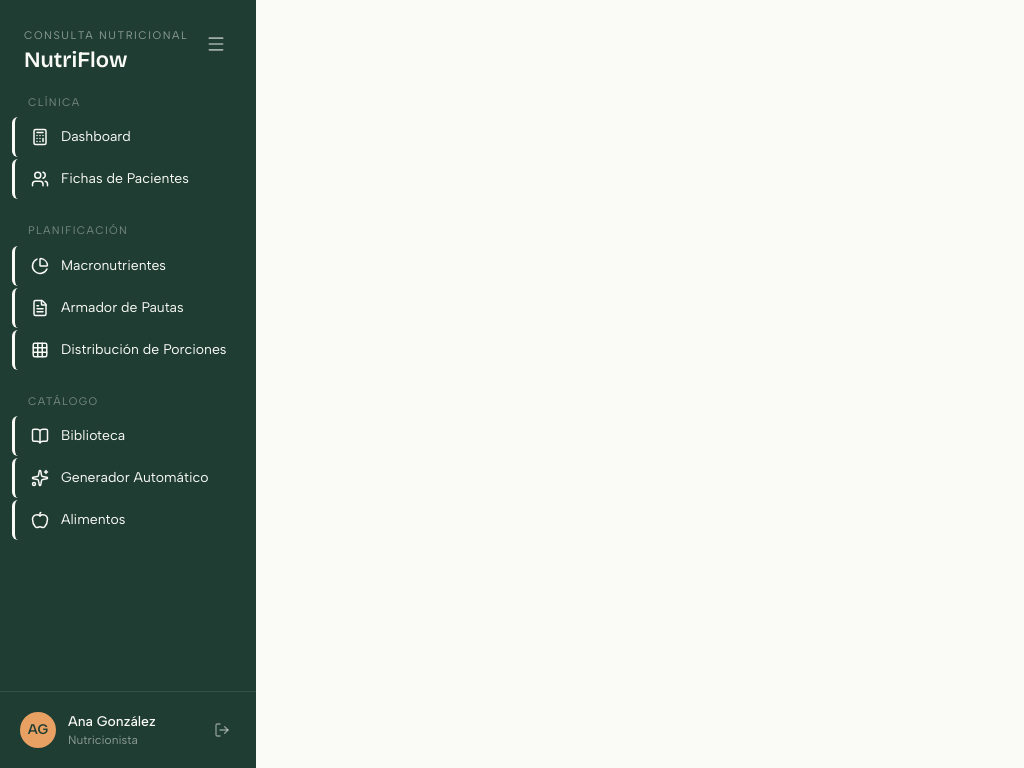
Test: Sidebar › modal de logout › clic en el icono de logout abre el modal de confirmación
The image size is (1024, 768).
Click the button titled "Cerrar sesión" at (222, 730), box top-left (208, 716), bottom-right (236, 744)
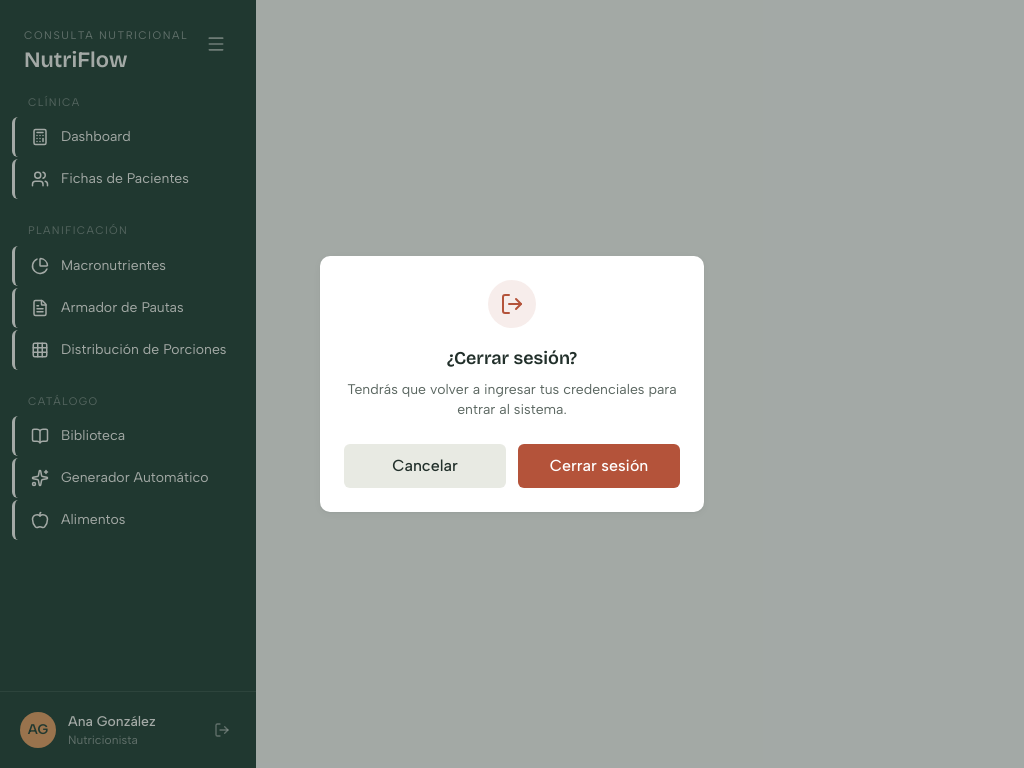
expect the heading "¿Cerrar sesión?" is shown: met, box top-left (447, 344), bottom-right (577, 372)
